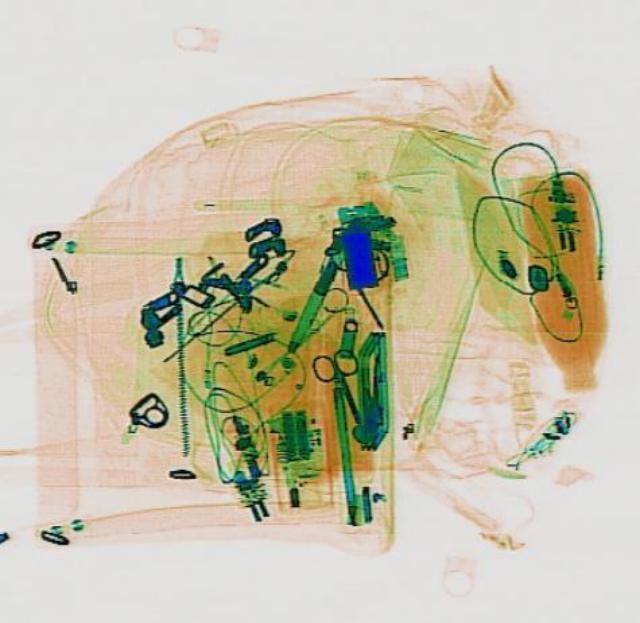Scissors: (306, 343, 379, 428)
